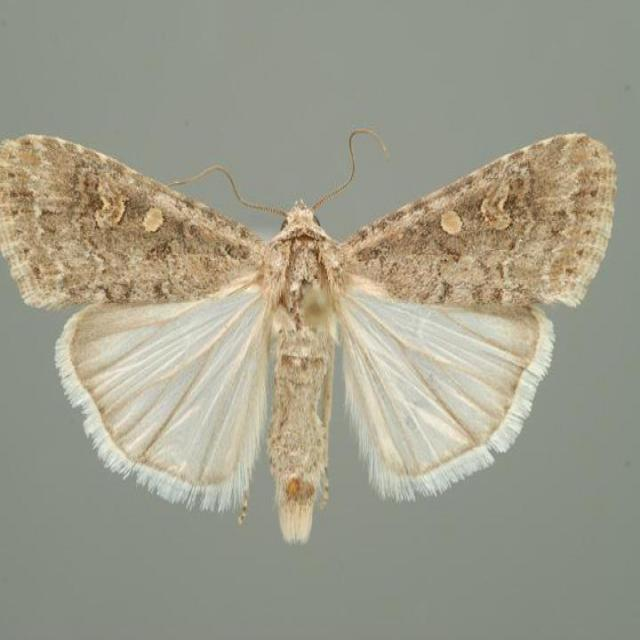BeetArmyWorm-Adult-: (4, 101, 625, 552)
